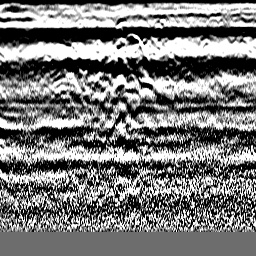cavity: (119, 30, 143, 50)
